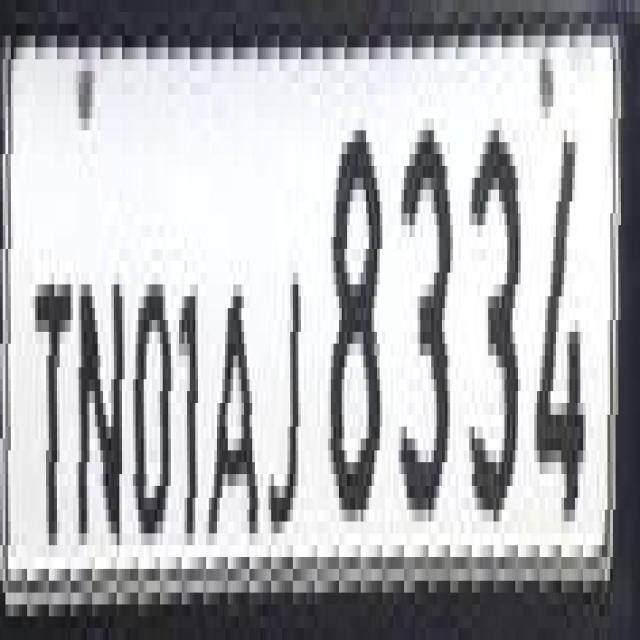license_plate: (8, 0, 605, 640)
